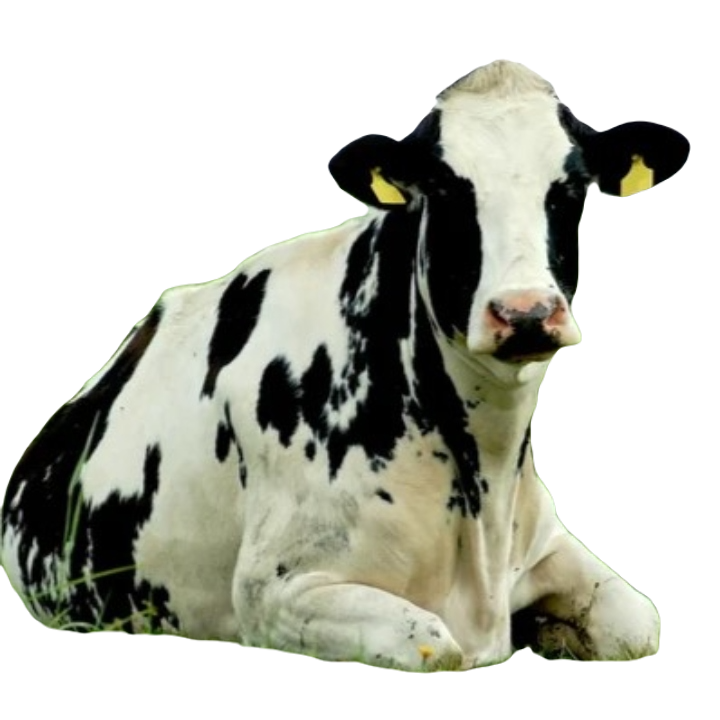Cow: (0, 62, 689, 667)
